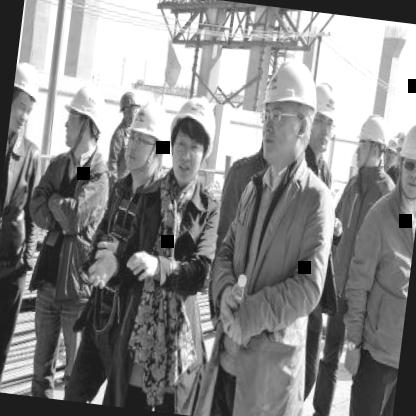helmet: (256, 51, 323, 170), (162, 97, 218, 193), (119, 94, 176, 188), (58, 74, 112, 166), (300, 80, 344, 168), (7, 53, 44, 144), (351, 109, 393, 182), (392, 111, 416, 206), (116, 81, 144, 128)
